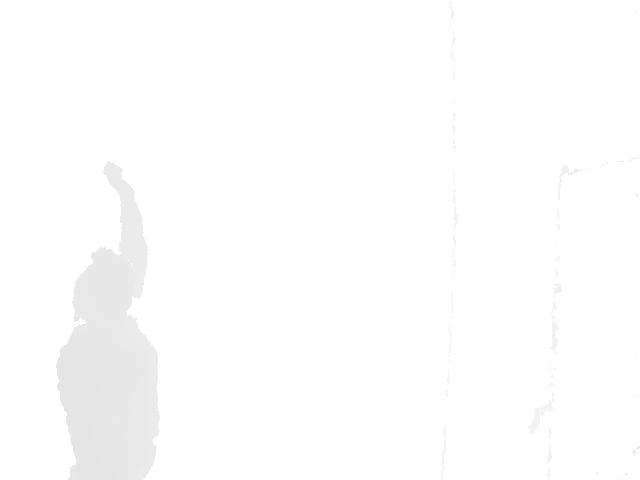hand: (101, 159, 137, 197)
head: (71, 246, 140, 329)
person: (54, 159, 163, 480)
